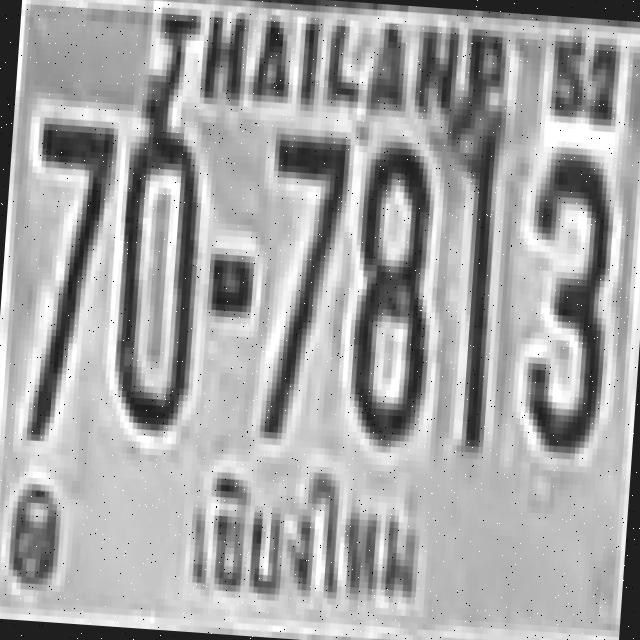0: (106, 117, 202, 426)
3: (513, 145, 613, 448)
7: (252, 126, 346, 430), (20, 116, 114, 407), (27, 117, 114, 308)
8: (342, 133, 438, 442)
ChiangMai: (178, 456, 432, 612)
